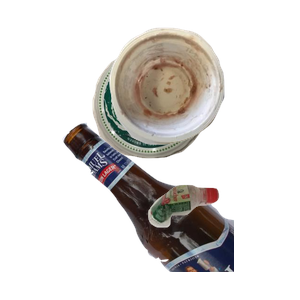glass: (60, 120, 300, 300)
metal: (90, 44, 289, 195)
plastic: (146, 182, 300, 300)
trash: (107, 25, 300, 162)
